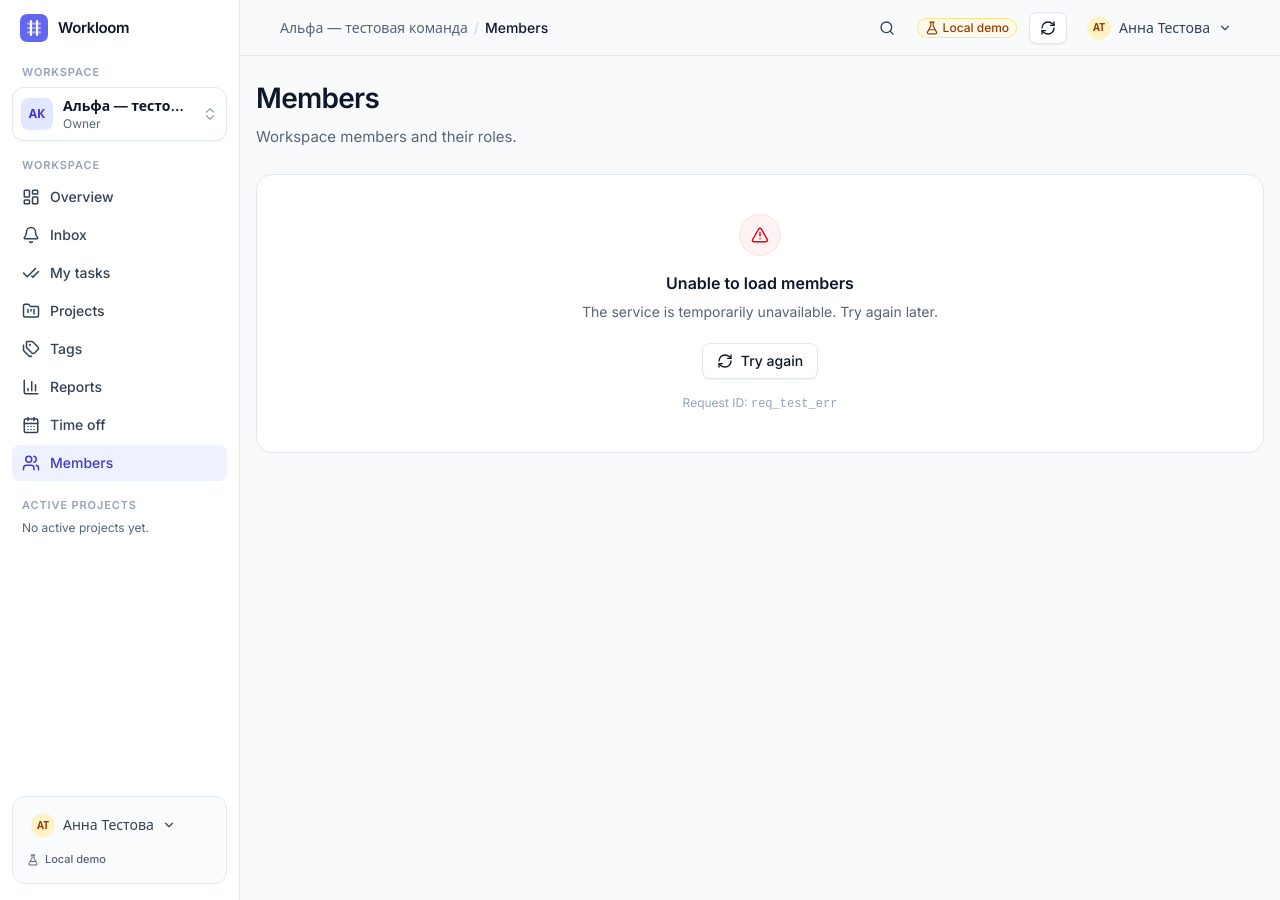
it: members › shows a member list error with retry, then the members with the current actor marked
The width and height of the screenshot is (1280, 900).
expect the heading "Unable to load members" is shown: met, box [666,271,854,295]
Click the button "Try again".
click(760, 362)  # box [702,344,818,380]
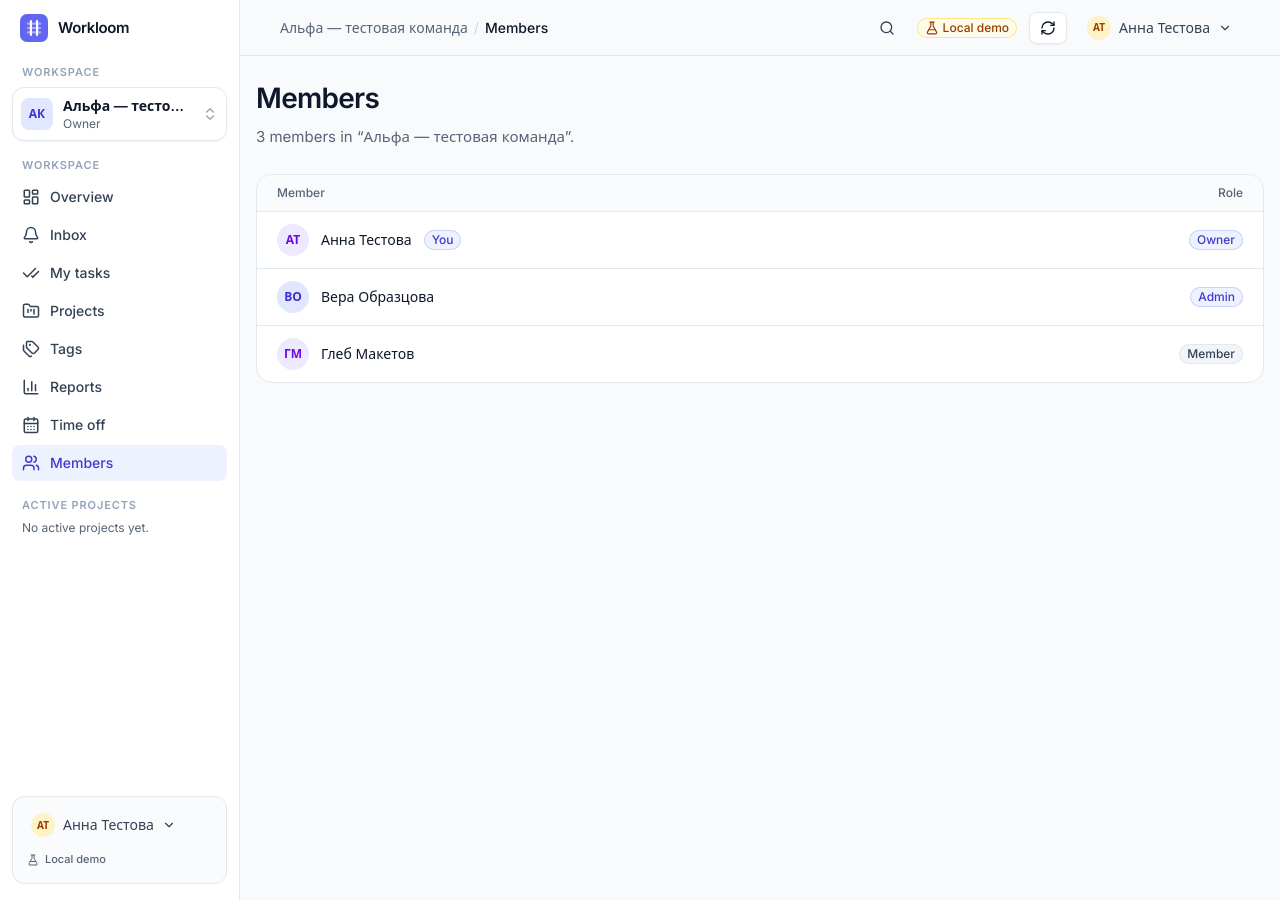
expect the number of rows is 4: met, box [257,175,1263,211]; [257,212,1263,268]; [257,268,1263,325]; [257,325,1263,382]
expect the row "АТ Анна Тестова You Owner" is shown: met, box [257,212,1263,268]
expect the text "You" is shown: met, box [424,230,462,250]
